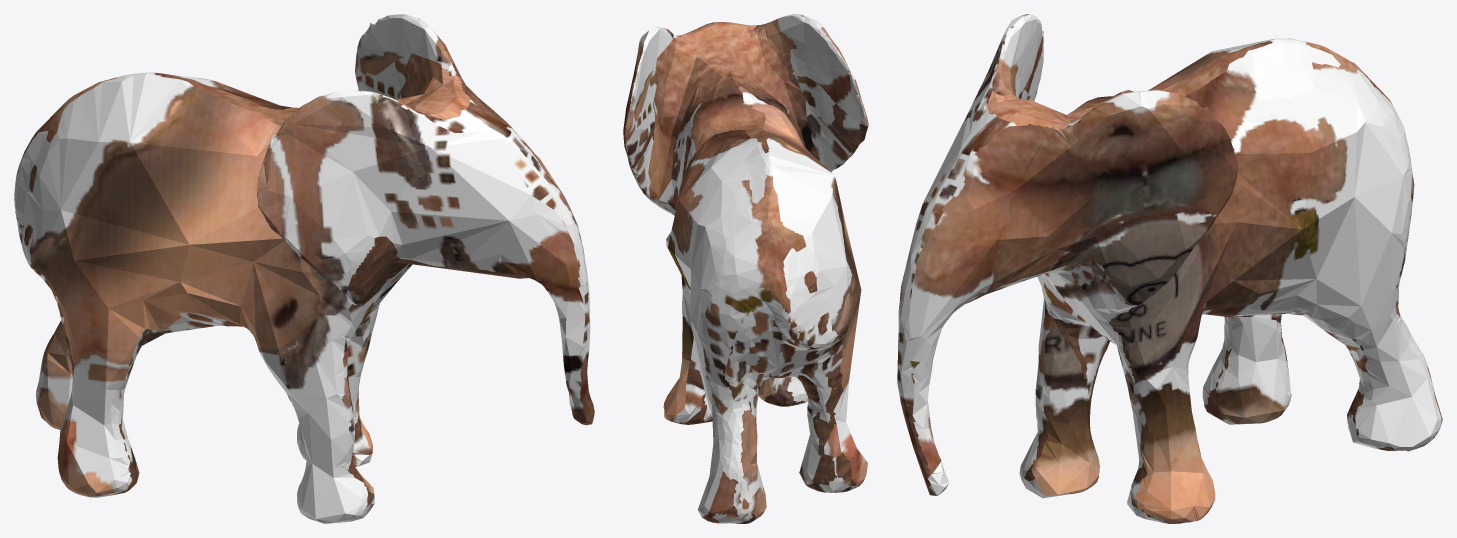
Rendered from elephant.obj.
3 views of the same model, side by side, from view 1: azimuth 30°, elevation 25°; view 2: azimuth 150°, elevation 25°; view 3: azimuth 270°, elevation 25° (orthographic). The views are drawn at different scales.
Bounding box in the file's own units: 92.42 × 101 × 108.
Materials: 1 (1 with a texture image).
